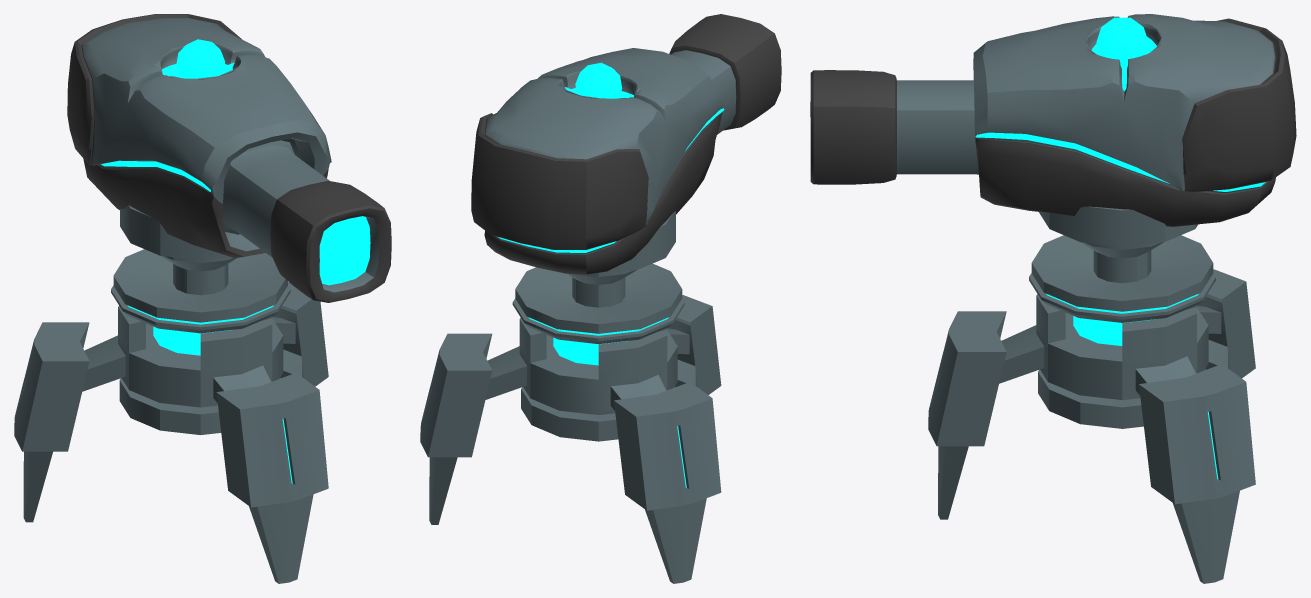
Rendered from turt1.fbx.
3 views of the same model, side by side, from view 1: azimuth 30°, elevation 25°; view 2: azimuth 150°, elevation 25°; view 3: azimuth 270°, elevation 25° (orthographic). The views are drawn at different scales.
Parts seen in each view (by area): view 1: Cylinder, Cylinder.001, Icosphere; view 2: Cylinder, Cylinder.001, Icosphere; view 3: Cylinder.001, Cylinder, Icosphere.
Part boxes in pixels (bbox=[...]): Cylinder: bbox=[14, 205, 328, 583]; Cylinder.001: bbox=[67, 14, 391, 302]; Icosphere: bbox=[176, 39, 224, 78]; Cylinder: bbox=[420, 211, 721, 583]; Cylinder.001: bbox=[471, 14, 781, 274]; Icosphere: bbox=[575, 62, 622, 98]; Cylinder.001: bbox=[810, 14, 1296, 226]; Cylinder: bbox=[928, 206, 1255, 583]; Icosphere: bbox=[1096, 17, 1148, 67].
Bounding box in the file's own units: 80.15 × 119 × 106.
